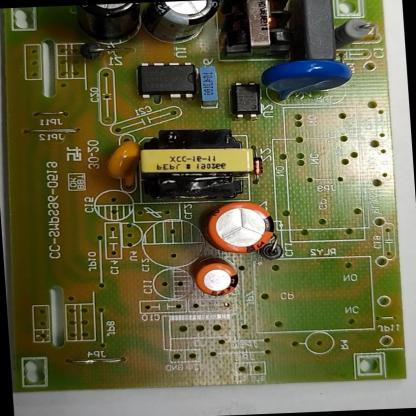Cap1: (202, 199, 280, 258)
Cap2: (193, 260, 242, 298)
Cap3: (142, 0, 223, 47)
Cap4: (72, 2, 146, 42)
MOSFET: (134, 58, 200, 104)
Mov: (261, 55, 357, 104)
Resistor: (332, 13, 377, 51)
Transformer: (134, 122, 257, 205), (218, 0, 301, 60)
